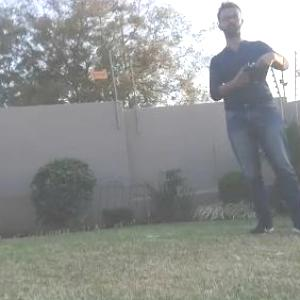follow: (204, 0, 300, 246)
